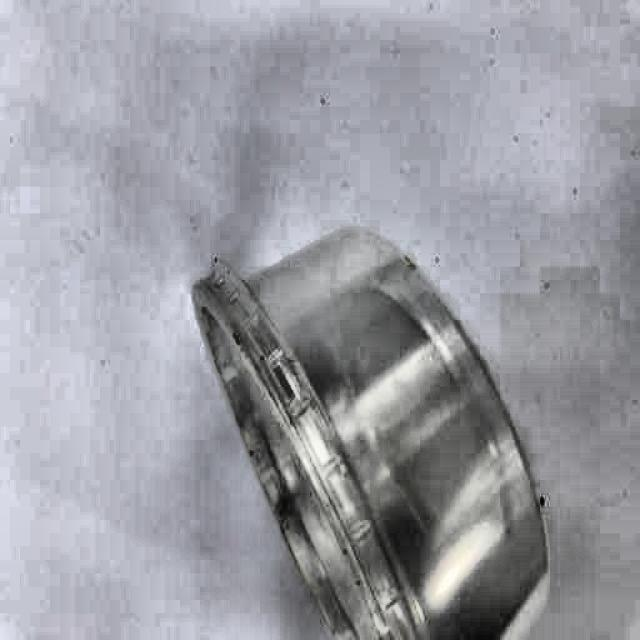plastic: (190, 218, 554, 640)
